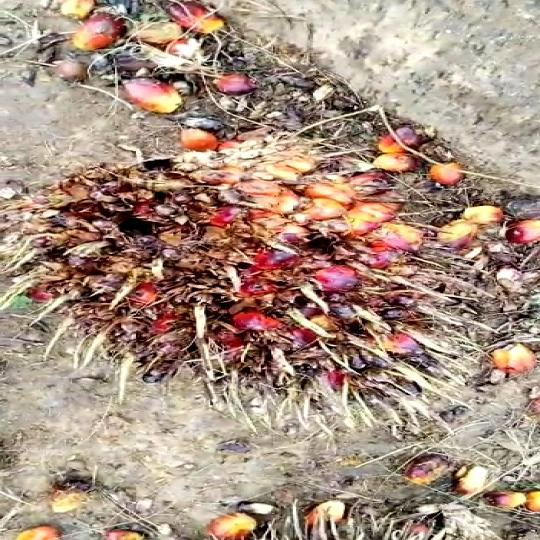terlalu masak: (0, 124, 540, 437)
